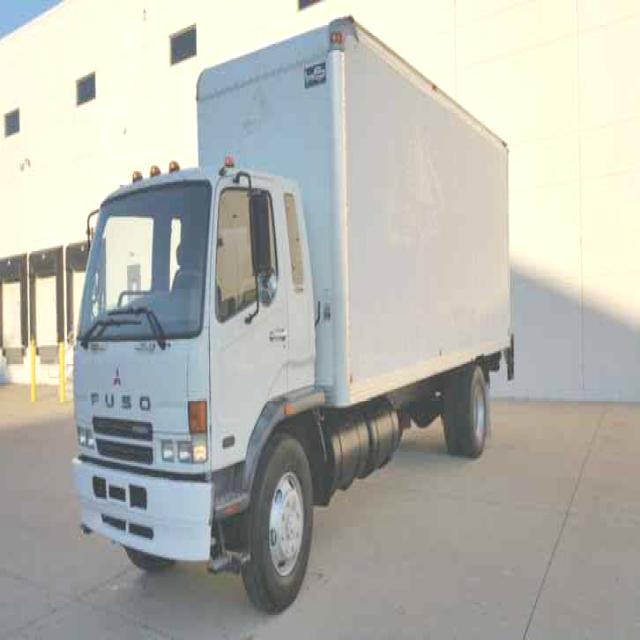truck: (71, 17, 515, 613)
